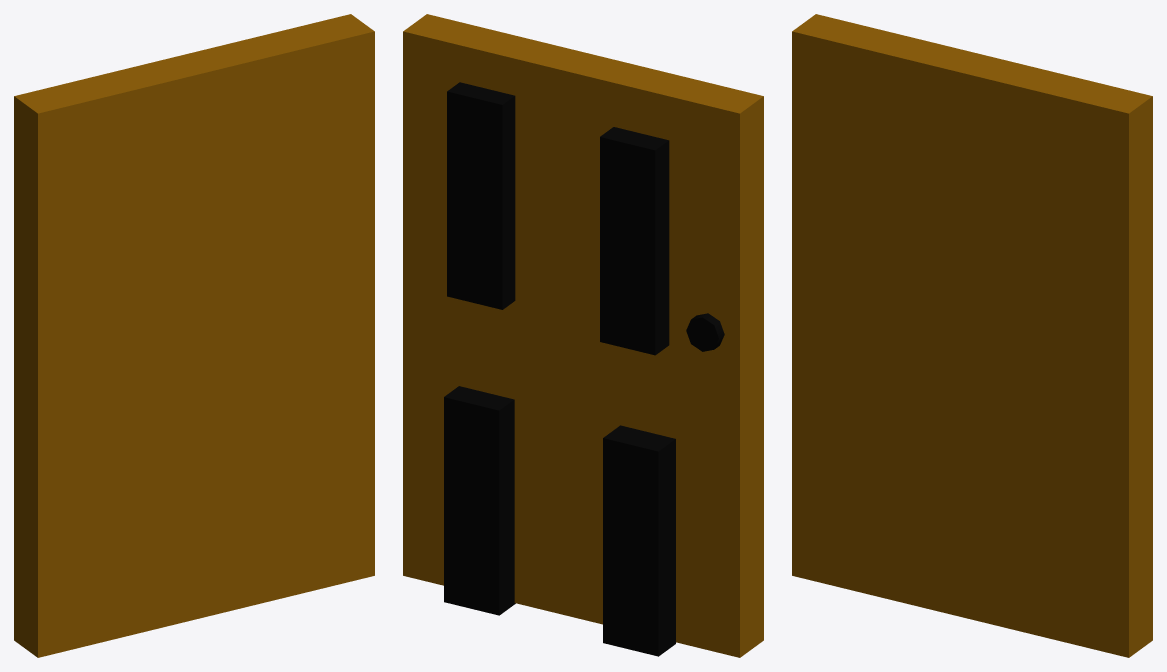
File: Animated_door.fbx
3 views of the same model, side by side, from view 1: azimuth 30°, elevation 25°; view 2: azimuth 150°, elevation 25°; view 3: azimuth 330°, elevation 25° (orthographic).
Visible parts, largest first — view 1: Door:Door_3; view 2: Door:Door_3; view 3: Door:Door_3.
Part boxes in pixels (x1=…): Door:Door_3: x1=14, y1=14, x2=374, y2=657; Door:Door_3: x1=403, y1=14, x2=763, y2=657; Door:Door_3: x1=792, y1=14, x2=1152, y2=657.
Bounding box in the file's own units: 4.49 × 6.95 × 0.95.
